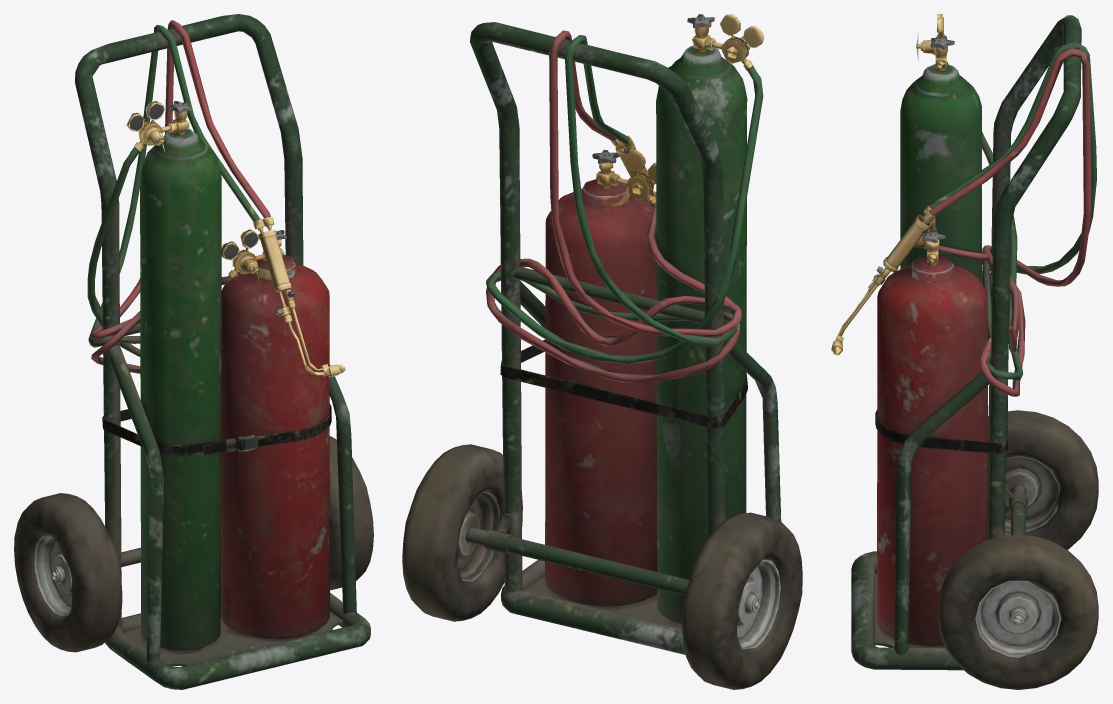
The model's file is portable_welding_cart.glb.
3 views of the same model, side by side, from view 1: azimuth 30°, elevation 25°; view 2: azimuth 150°, elevation 25°; view 3: azimuth 270°, elevation 25° (orthographic). The views are drawn at different scales.
Visible parts, largest first — view 1: portable_welding_cart; view 2: portable_welding_cart; view 3: portable_welding_cart.
Part boxes in pixels (x1=…): portable_welding_cart: x1=14, y1=14, x2=373, y2=689; portable_welding_cart: x1=402, y1=14, x2=802, y2=689; portable_welding_cart: x1=831, y1=14, x2=1098, y2=689.
Size of the model in its own units: 0.8374 by 1.56 by 0.6549.
2 materials, 2 textured.
